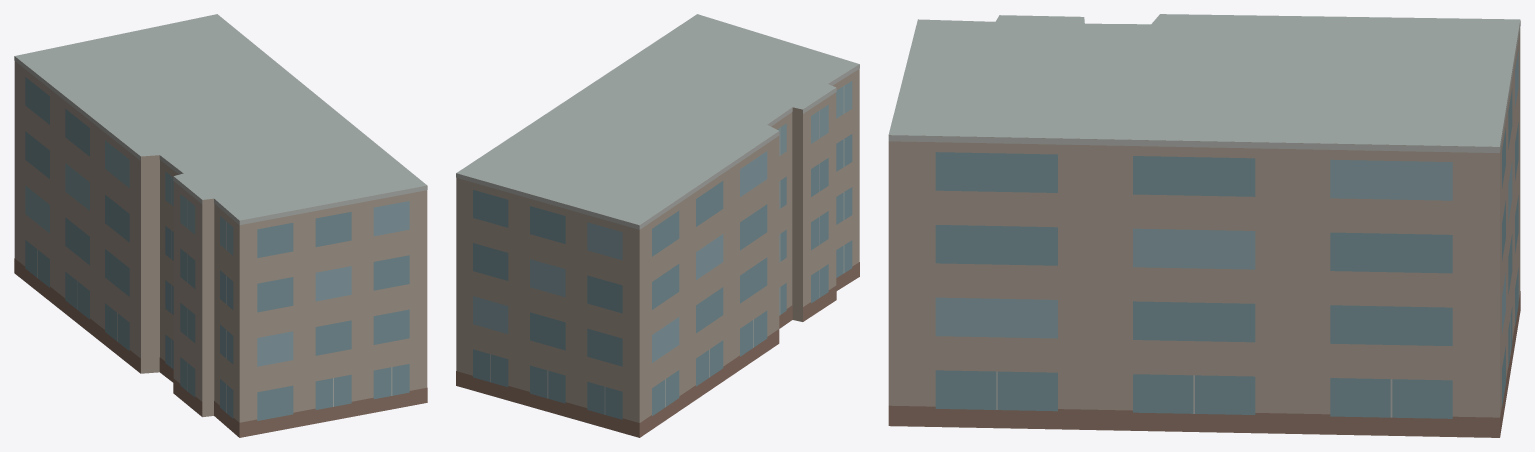
File: survey-upis-32969690.glb
The picture shows the model from 3 angles, left to right: view 1: azimuth 30°, elevation 25°; view 2: azimuth 150°, elevation 25°; view 3: azimuth 270°, elevation 25°; orthographic projection. The views are drawn at different scales.
Parts seen in each view (by area): view 1: survey-upis-32969690.tmp; view 2: survey-upis-32969690.tmp; view 3: survey-upis-32969690.tmp.
Part boxes in pixels (x1=…): survey-upis-32969690.tmp: x1=14, y1=14, x2=427, y2=437; survey-upis-32969690.tmp: x1=456, y1=14, x2=859, y2=437; survey-upis-32969690.tmp: x1=888, y1=14, x2=1520, y2=437.
Bounding box in the file's own units: 11.28 × 11.5 × 22.65.
